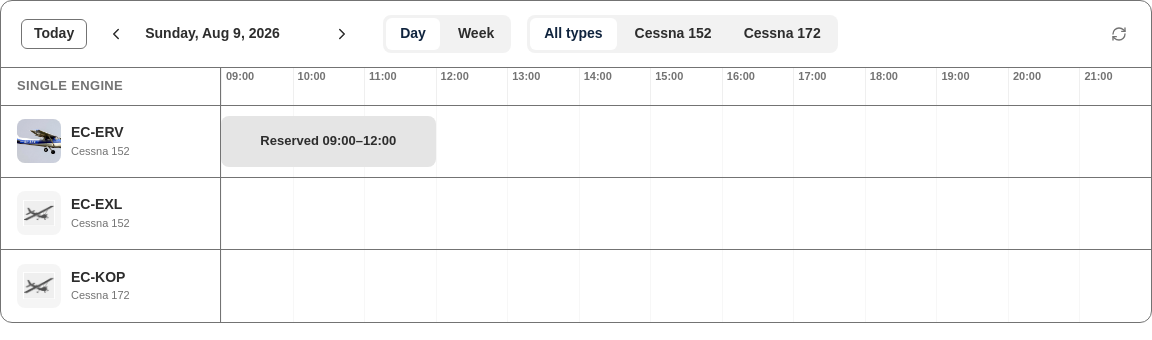
Scenario: ScheduleBoard › filters the aircraft rows by type
Check: the text "EC-KOP" is shown, box [71,268,130,287]
Click the button "Cessna 152".
click(673, 34)  # box [621,18,726,50]
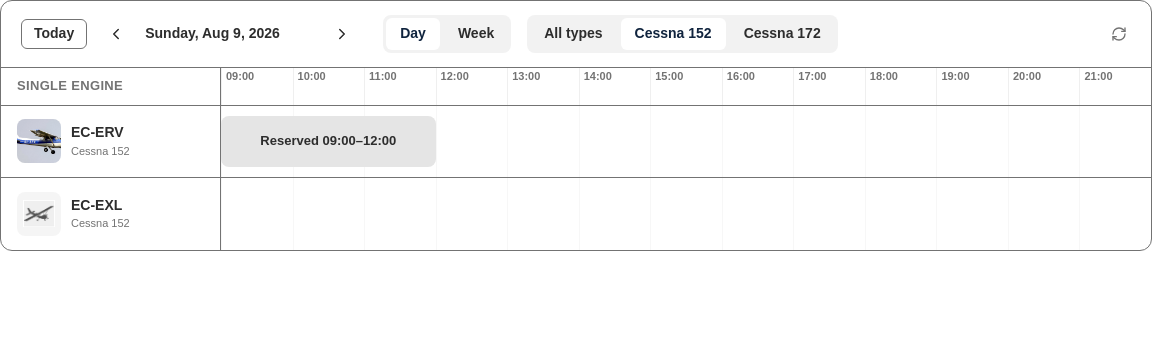
Check: the text "EC-ERV" is shown, box [71,123,130,143]
Check: the text "EC-KOP" is gone
Click the button "All types".
click(573, 34)  # box [530,18,617,50]
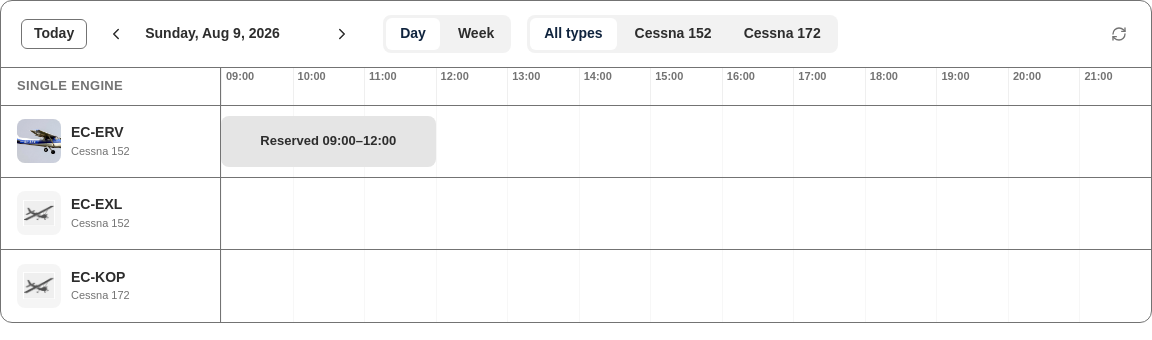
Check: the text "EC-KOP" is shown, box [71,268,130,287]
